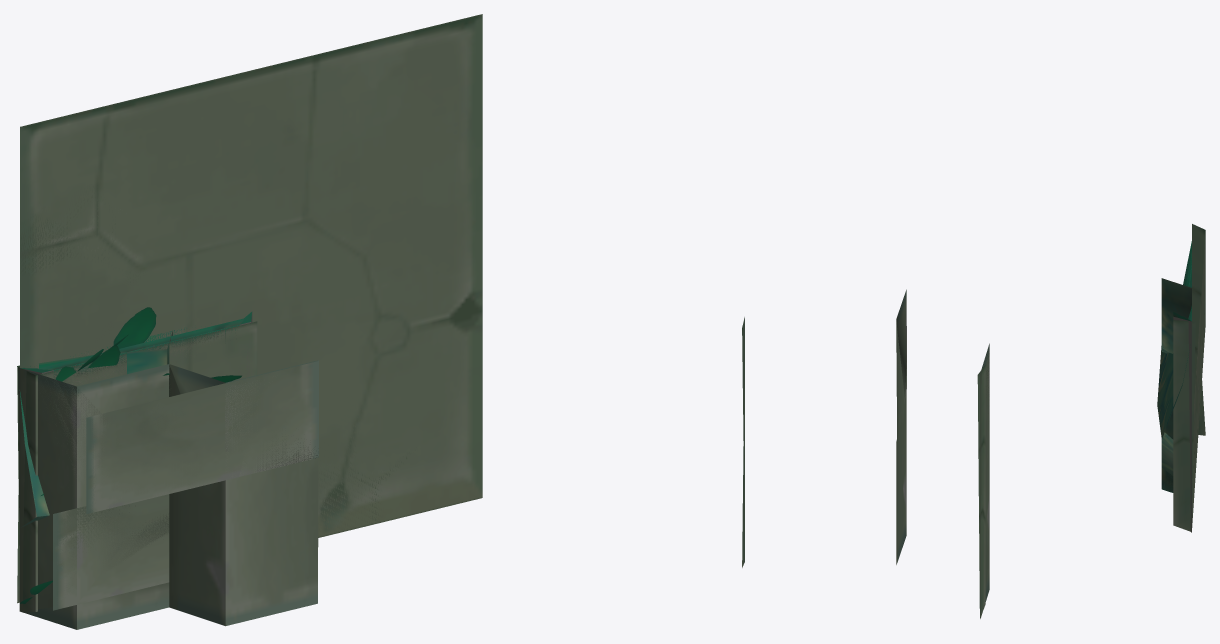
The model's file is floor.glb.
3 renders of one model, left to right at view 1: azimuth 30°, elevation 25°; view 2: azimuth 150°, elevation 25°; view 3: azimuth 270°, elevation 25°, orthographic. The views are drawn at different scales.
Visible parts, largest first — view 1: rsrc.world.tileset.graveyard.floor-Variant[Sidewalk_x2_01]-S, rsrc.world.tileset.graveyard.floor-Variant[Sidewalk_x2_03]-S, rsrc.world.tileset.graveyard.floor-Variant[stairs_corner_in_, rsrc.world.tileset.graveyard.floor-Variant[stair_01]-Submesh, rsrc.world.tileset.graveyard.floor-Variant[stair_Out_SW_01]-, rsrc.world.tileset.graveyard.floor-Variant[Sidewalk_01c]-Sub, rsrc.world.tileset.graveyard.floor-Variant[stair_Out_SW_02]-, rsrc.world.tileset.graveyard.floor-Variant[cobblestone_02]-S, rsrc.world.tileset.graveyard.floor-Variant[cobblestone_06]-S, rsrc.world.tileset.graveyard.floor-Variant[dirt_In_NW01]-Sub, rsrc.world.tileset.graveyard.floor-Variant[cobblestone_09]-S, rsrc.world.tileset.graveyard.floor-Variant[dirt_side_N02]-Su; view 2: rsrc.world.tileset.graveyard.floor-Variant[stair_Out_SW_01]-, rsrc.world.tileset.graveyard.floor-Variant[Sidewalk_01c]-Sub, rsrc.world.tileset.graveyard.floor-Variant[stairs_corner_in_, rsrc.world.tileset.graveyard.floor-Variant[stair_Out_SW_02]-; view 3: rsrc.world.tileset.graveyard.floor-Variant[Sidewalk_01c]-Sub, rsrc.world.tileset.graveyard.floor-Variant[Sidewalk_01b]-Sub, rsrc.world.tileset.graveyard.floor-Variant[dirt_In_NW01]-Sub, rsrc.world.tileset.graveyard.floor-Variant[dirt_side_N02]-Su, rsrc.world.tileset.graveyard.floor-Variant[sidewalk_grate01], rsrc.world.tileset.graveyard.floor-Variant[dirt_out_NW02]-Su, rsrc.world.tileset.graveyard.floor-Variant[Sidewalk_02b]-Sub, rsrc.world.tileset.graveyard.floor-Variant[dirt_out_NW03]-Su, rsrc.world.tileset.graveyard.floor-Variant[dirt_out_NW01]-Su.
Part boxes in pixels (box(x1,y1,x2,y2)): rsrc.world.tileset.graveyard.floor-Variant[Sidewalk_x2_01]-S: box(20, 14, 482, 537); rsrc.world.tileset.graveyard.floor-Variant[Sidewalk_x2_03]-S: box(20, 14, 482, 537); rsrc.world.tileset.graveyard.floor-Variant[stairs_corner_in_: box(20, 362, 318, 629); rsrc.world.tileset.graveyard.floor-Variant[stair_01]-Submesh: box(53, 361, 318, 610); rsrc.world.tileset.graveyard.floor-Variant[stair_Out_SW_01]-: box(19, 360, 318, 611); rsrc.world.tileset.graveyard.floor-Variant[Sidewalk_01c]-Sub: box(18, 321, 257, 611); rsrc.world.tileset.graveyard.floor-Variant[stair_Out_SW_02]-: box(19, 360, 317, 606); rsrc.world.tileset.graveyard.floor-Variant[cobblestone_02]-S: box(20, 311, 252, 385); rsrc.world.tileset.graveyard.floor-Variant[cobblestone_06]-S: box(20, 307, 156, 603); rsrc.world.tileset.graveyard.floor-Variant[dirt_In_NW01]-Sub: box(19, 331, 172, 516); rsrc.world.tileset.graveyard.floor-Variant[cobblestone_09]-S: box(22, 312, 250, 369); rsrc.world.tileset.graveyard.floor-Variant[dirt_side_N02]-Su: box(20, 402, 49, 527); rsrc.world.tileset.graveyard.floor-Variant[stair_Out_SW_01]-: box(896, 322, 989, 618); rsrc.world.tileset.graveyard.floor-Variant[Sidewalk_01c]-Sub: box(977, 365, 985, 617); rsrc.world.tileset.graveyard.floor-Variant[stairs_corner_in_: box(896, 391, 989, 617); rsrc.world.tileset.graveyard.floor-Variant[stair_Out_SW_02]-: box(896, 289, 989, 413); rsrc.world.tileset.graveyard.floor-Variant[Sidewalk_01c]-Sub: box(1173, 320, 1195, 531); rsrc.world.tileset.graveyard.floor-Variant[Sidewalk_01b]-Sub: box(1192, 224, 1205, 527); rsrc.world.tileset.graveyard.floor-Variant[dirt_In_NW01]-Sub: box(1161, 241, 1191, 353); rsrc.world.tileset.graveyard.floor-Variant[dirt_side_N02]-Su: box(1157, 244, 1191, 439); rsrc.world.tileset.graveyard.floor-Variant[sidewalk_grate01]: box(1173, 316, 1191, 532); rsrc.world.tileset.graveyard.floor-Variant[dirt_out_NW02]-Su: box(1161, 273, 1191, 475); rsrc.world.tileset.graveyard.floor-Variant[Sidewalk_02b]-Sub: box(1192, 236, 1205, 435); rsrc.world.tileset.graveyard.floor-Variant[dirt_out_NW03]-Su: box(1162, 250, 1191, 492); rsrc.world.tileset.graveyard.floor-Variant[dirt_out_NW01]-Su: box(1161, 306, 1191, 492).
Size of the model in its own units: 2.06 by 2.09 by 0.56.
Materials: 5 (5 with a texture image).
